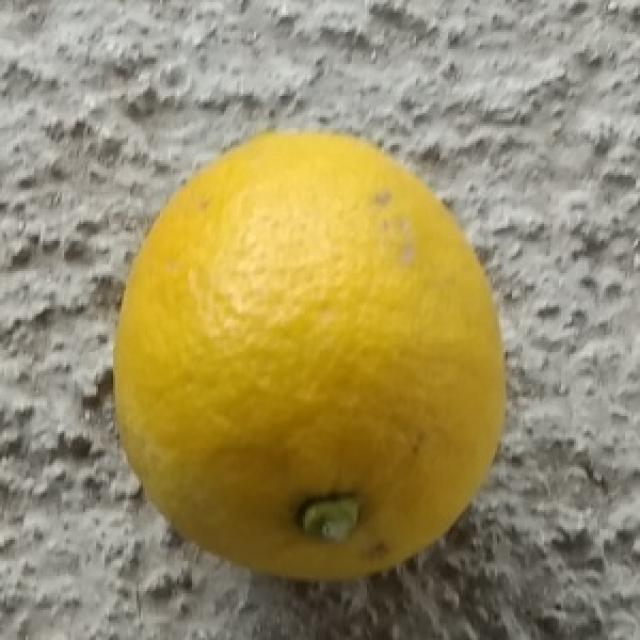Ripe: (105, 126, 515, 585)
